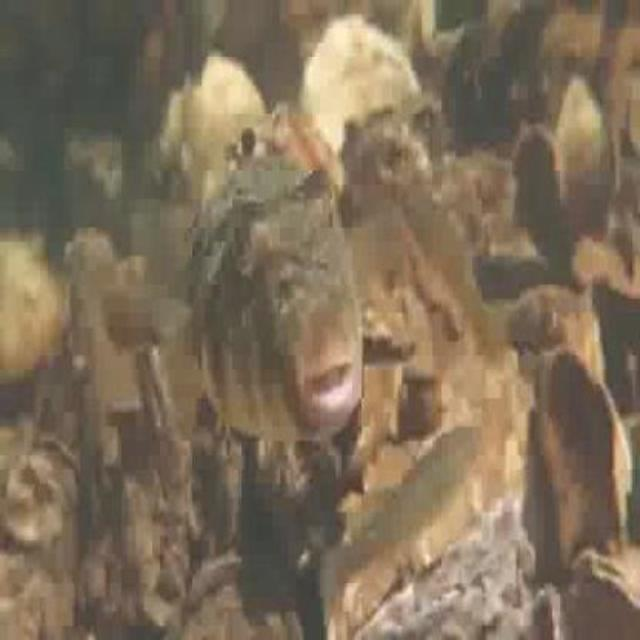Oyster-Closed: (474, 286, 608, 510), (350, 514, 563, 638), (307, 16, 420, 146), (157, 554, 303, 638), (182, 55, 265, 181), (4, 434, 81, 558), (0, 229, 62, 371), (558, 89, 609, 231), (348, 123, 428, 206), (568, 548, 638, 638), (155, 94, 186, 181)
Oyster-Open: (401, 252, 470, 357), (232, 125, 266, 165)
